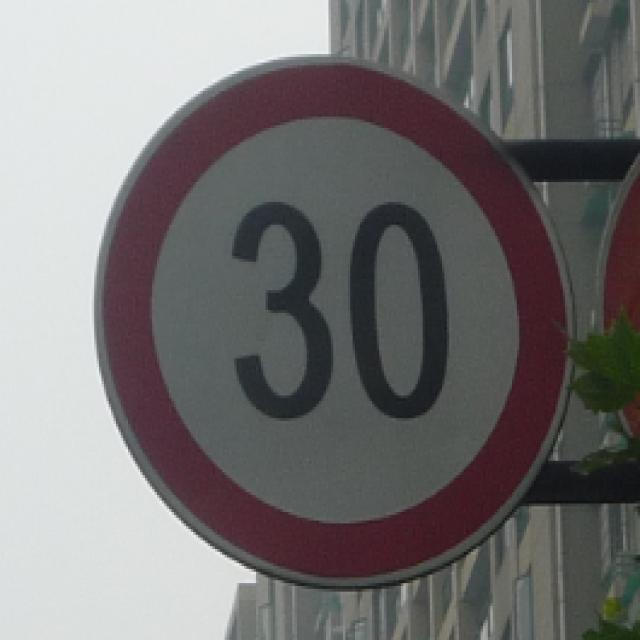speed limit 30: (94, 56, 576, 592)
